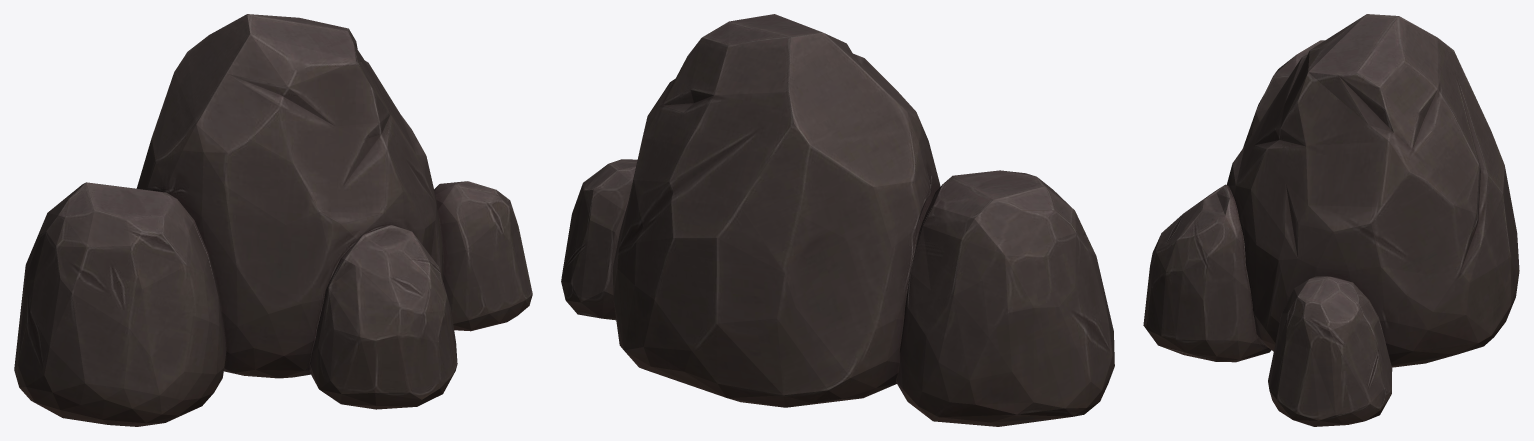
File: double-rock.gltf
3 views of the same model, side by side, from view 1: azimuth 30°, elevation 25°; view 2: azimuth 150°, elevation 25°; view 3: azimuth 270°, elevation 25° (orthographic). The views are drawn at different scales.
Parts seen in each view (by area): view 1: Group21933; view 2: Group21933; view 3: Group21933.
Part boxes in pixels (box(x1,y1,x2,y2)): Group21933: box(14, 14, 532, 426); Group21933: box(561, 14, 1114, 426); Group21933: box(1143, 14, 1519, 426).
Size of the model in its own units: 2 by 1.26 by 1.37.
Materials: 1 (1 with a texture image).
